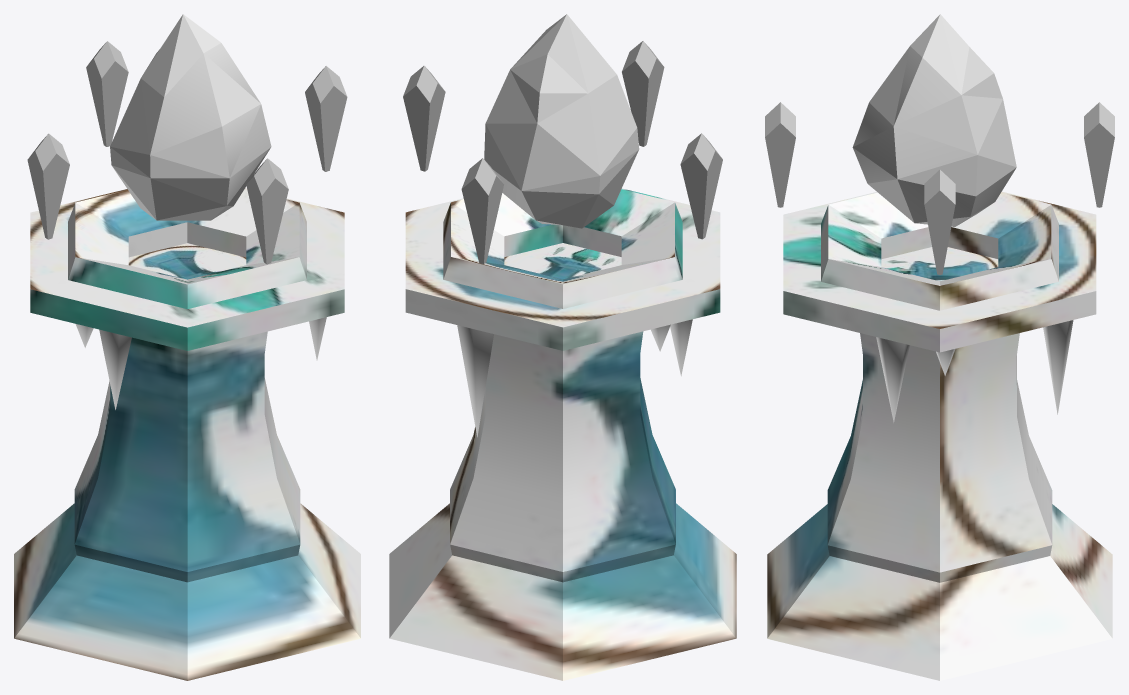
Rendered from IceTower.FBX.
3 views of the same model, side by side, from view 1: azimuth 30°, elevation 25°; view 2: azimuth 150°, elevation 25°; view 3: azimuth 270°, elevation 25° (orthographic).
Parts seen in each view (by area): view 1: Shape001, Line003, Object, Object006; view 2: Shape001, Line003, Object, Object006; view 3: Shape001, Line003, Object, Object006.
Part boxes in pixels (<box>): Shape001: <box>14,188,360,680</box>; Line003: <box>110,14,271,220</box>; Object: <box>27,41,347,264</box>; Object006: <box>75,317,326,409</box>; Shape001: <box>389,188,736,680</box>; Line003: <box>484,14,639,228</box>; Object: <box>403,41,722,263</box>; Object006: <box>457,319,692,437</box>; Shape001: <box>767,191,1112,680</box>; Line003: <box>852,14,1016,226</box>; Object: <box>765,102,1114,274</box>; Object006: <box>876,320,1073,422</box>.
Bounding box in the file's own units: 39.39 × 63.26 × 34.56.
